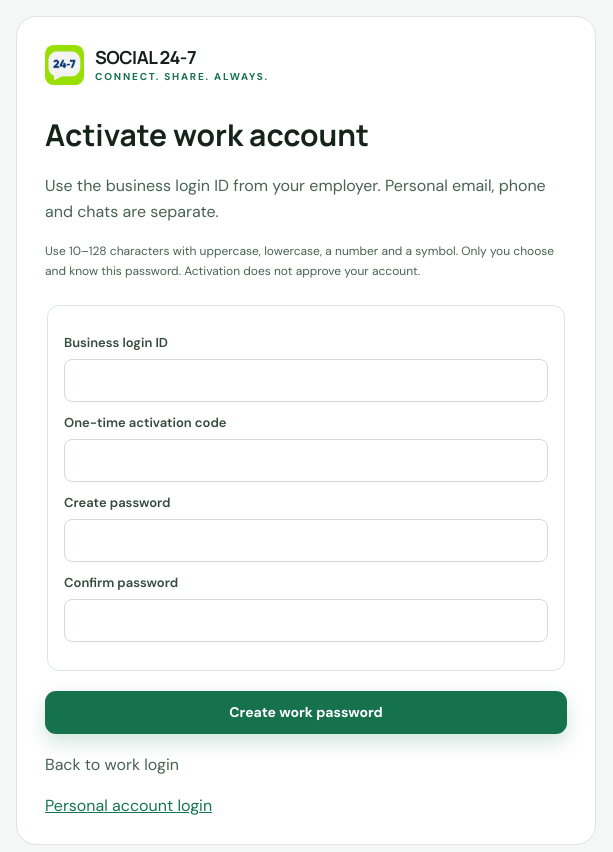
Test: work activation UI › retains input and surfaces server rejection
The width and height of the screenshot is (613, 852).
Type "qa.agent" into the field labelled "Business login ID". click: (306, 380)
box: [64,359,548,402]
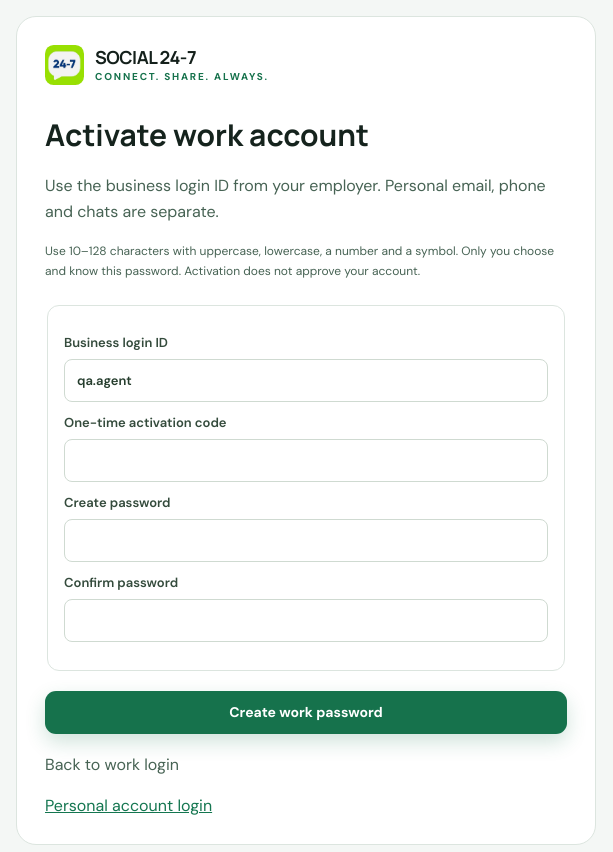
Type "FIXTURE" into the password field labelled "One-time activation code". click: (306, 460)
box: [64,439,548,482]
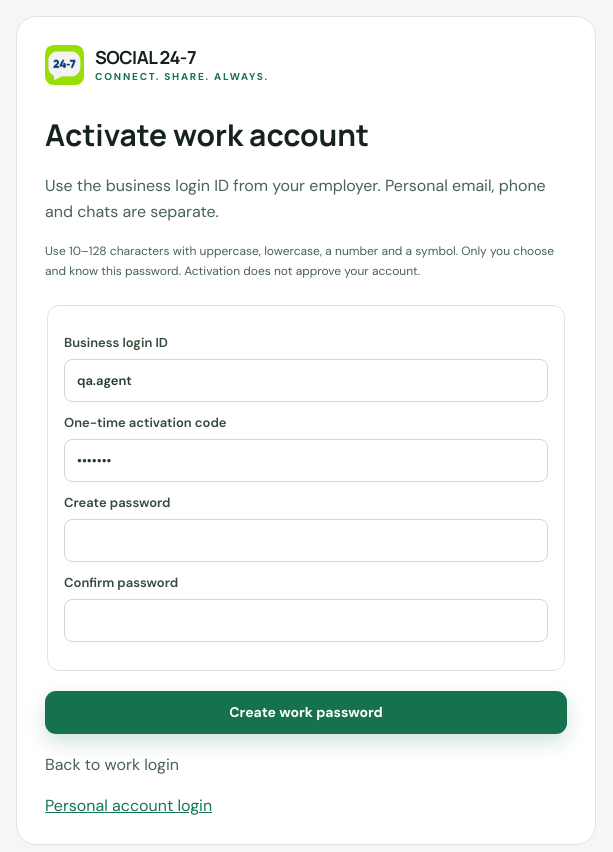
Type "FixtureOnly-ABC123" into the password field labelled "Create password". click: (306, 540)
box: [64,519,548,562]
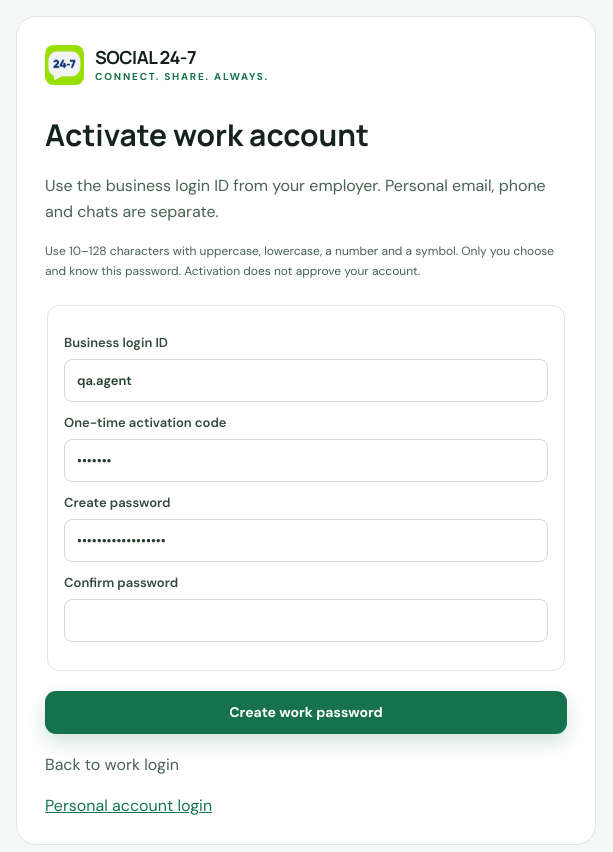
Type "FixtureOnly-ABC123" into the password field labelled "Confirm password". click: (306, 620)
box: [64,599,548,642]
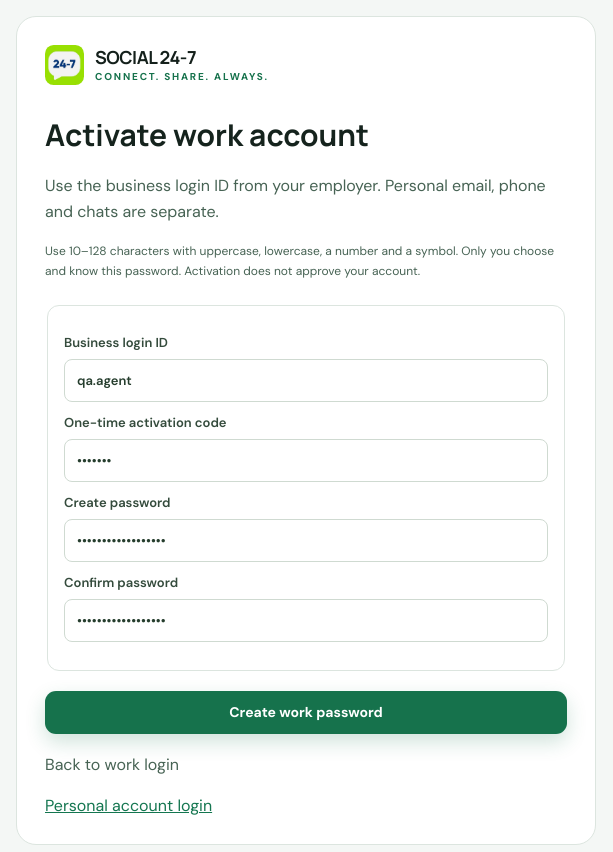
Click the button "Create work password". click: (306, 712)
box: [45,691,567,734]
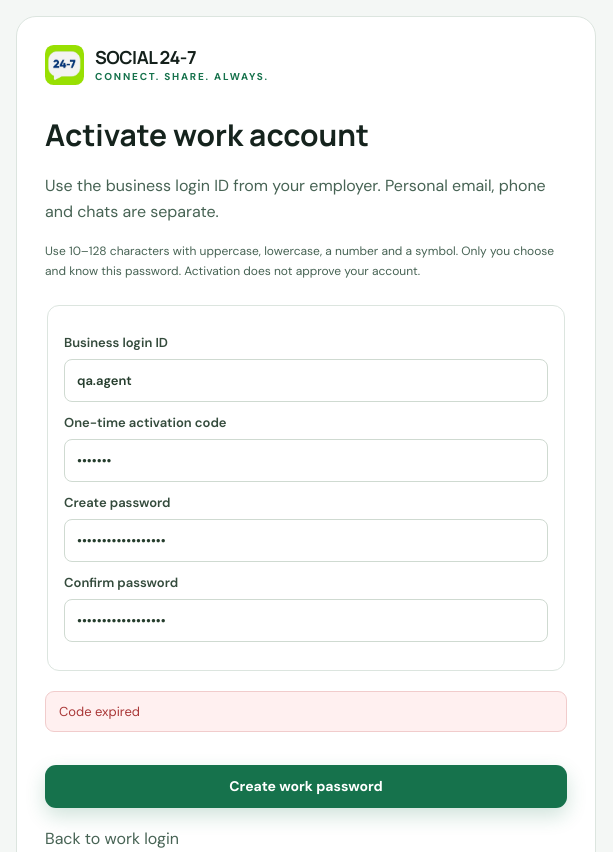
Result: the message reads "Code expired" at [59,703,140,720]
